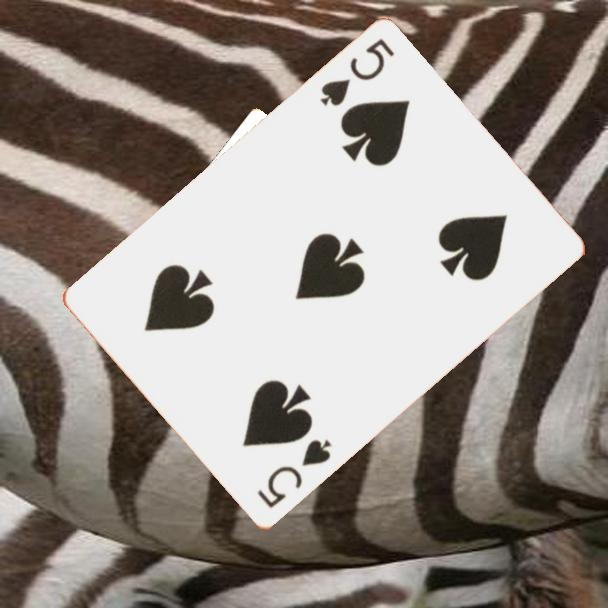s05: (254, 436, 335, 512), (316, 35, 398, 110)
